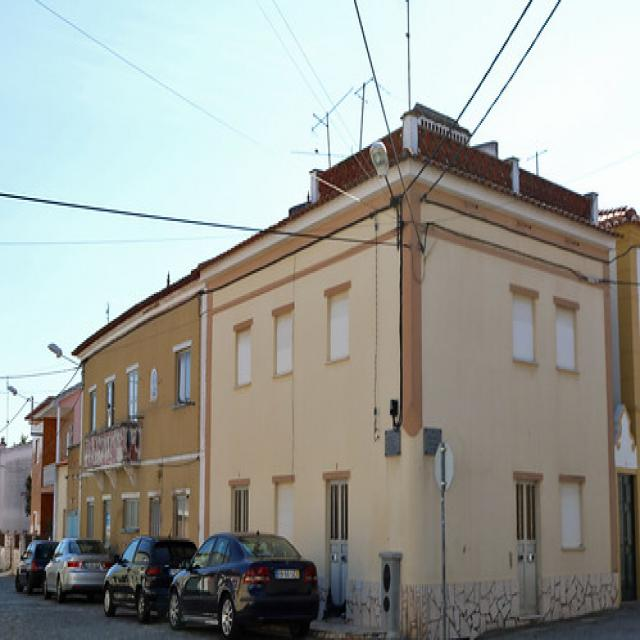Normal_building: (20, 102, 621, 640)
